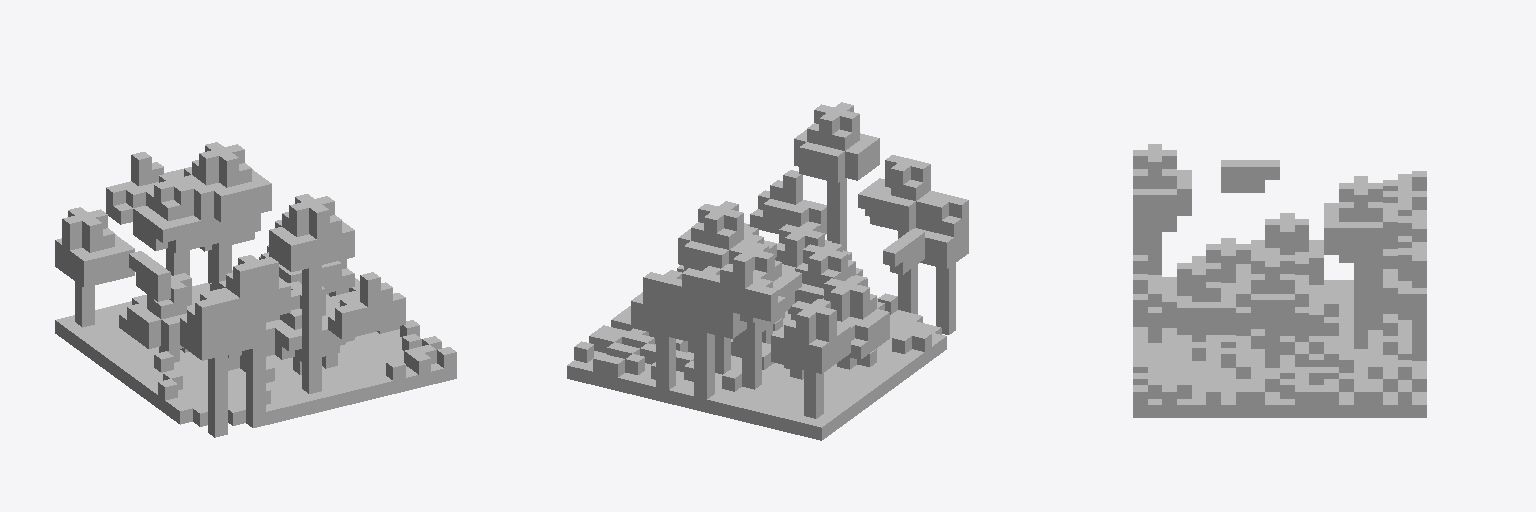
File: demo.obj
3 renders of one model, left to right at view 1: azimuth 30°, elevation 25°; view 2: azimuth 150°, elevation 25°; view 3: azimuth 270°, elevation 25°, orthographic.
Visible parts, largest first — view 1: demo; view 2: demo; view 3: demo.
Part boxes in pixels (bbox=[...]): demo: bbox=[55, 142, 456, 437]; demo: bbox=[567, 102, 968, 440]; demo: bbox=[1133, 144, 1426, 417].
Size of the model in its own units: 20 by 15 by 20.